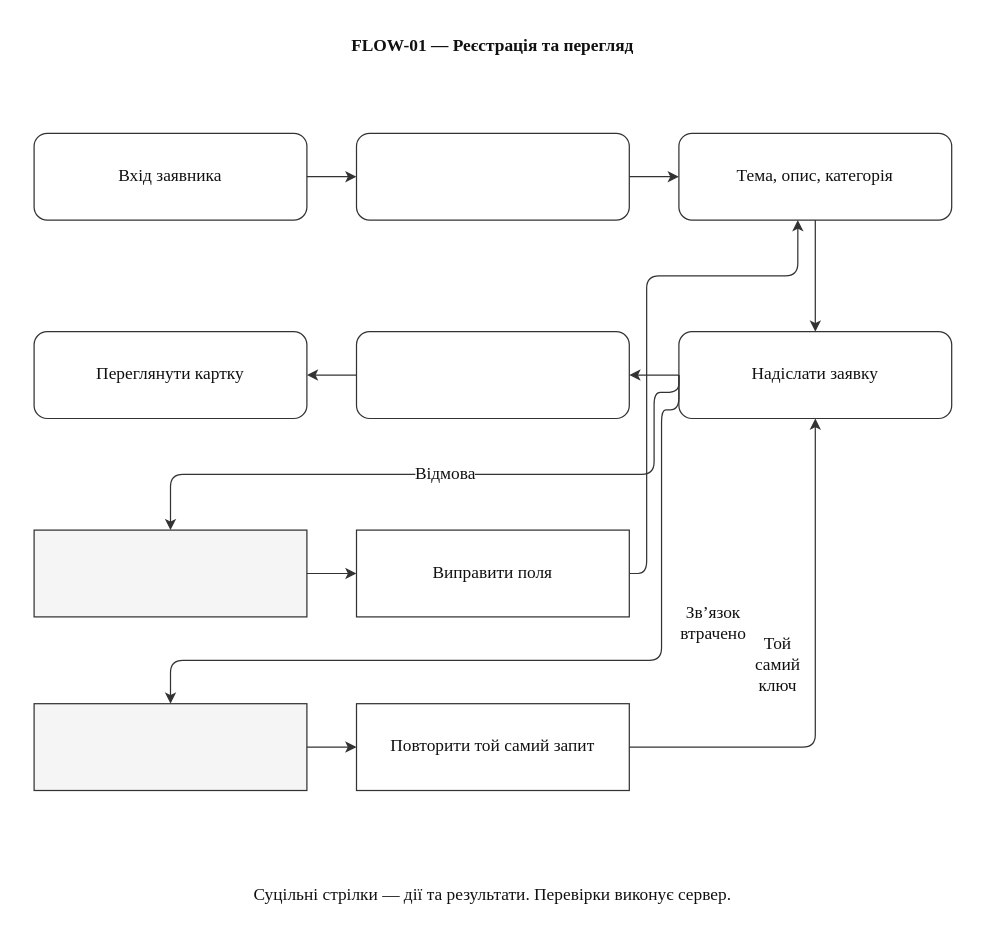
The diagram is 985 pixels wide and 947 high, and some of its shapes have lost their labels. The centre of each missing label's shape, as x and y in pixels:
Відкрити форму: (492,176)
Невідомий результат: (170,746)
Отримати номер: (492,374)
Помилка введення: (170,573)
